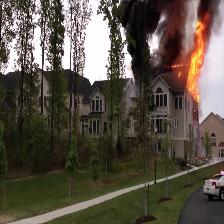fire: (189, 27, 203, 96)
smoke: (124, 3, 181, 65), (197, 0, 217, 22)
